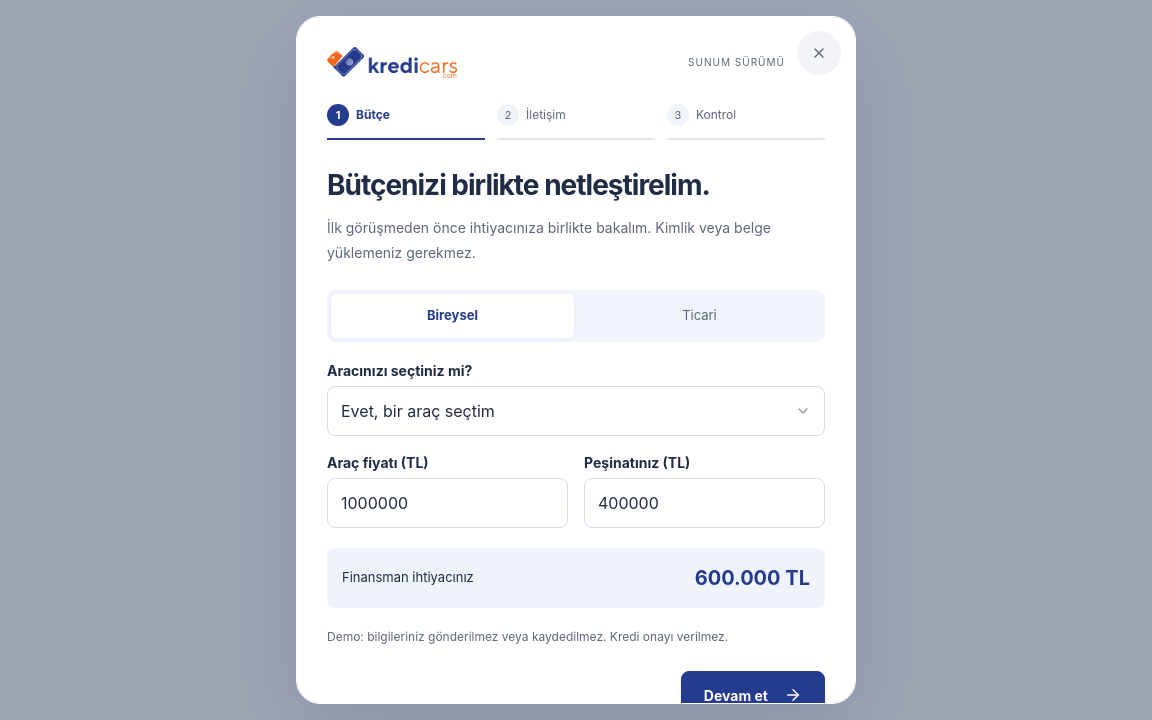
Test case: custom select supports the no-car path without requiring vehicle fields
The width and height of the screenshot is (1152, 720).
Click the dropdown named "Aracınızı seçtiniz mi?" at (418, 411), box [327, 386, 825, 436]
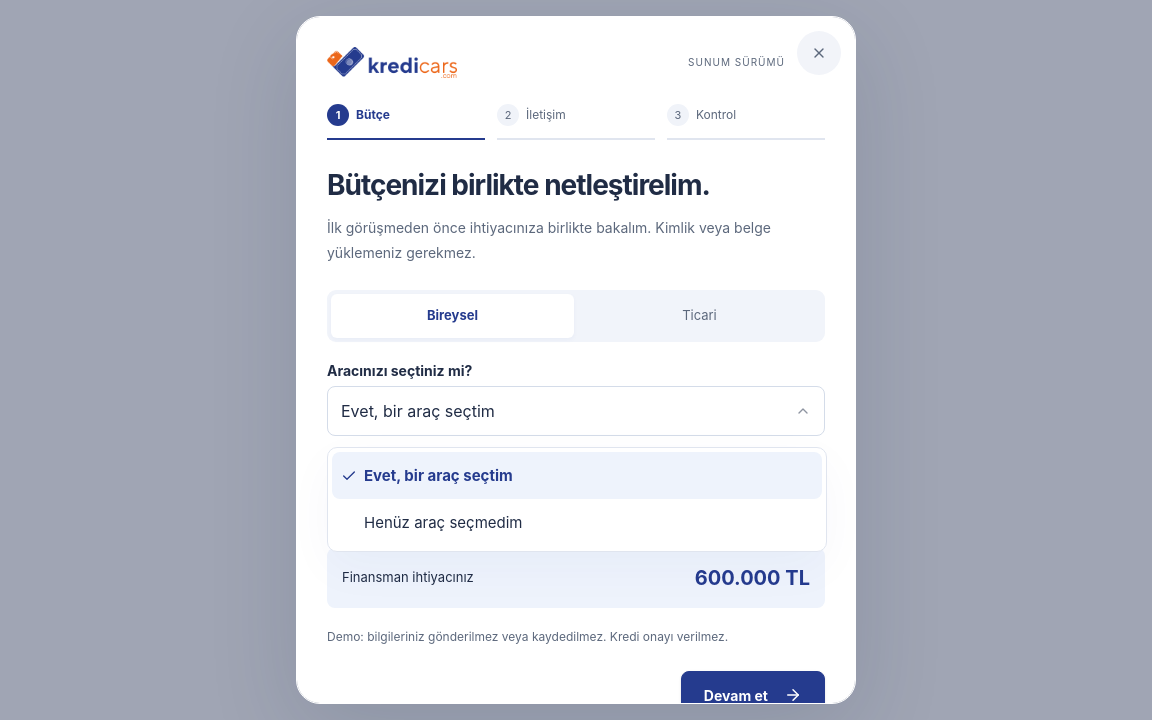
Click the option "Henüz araç seçmedim" at (443, 523), box [364, 513, 522, 532]
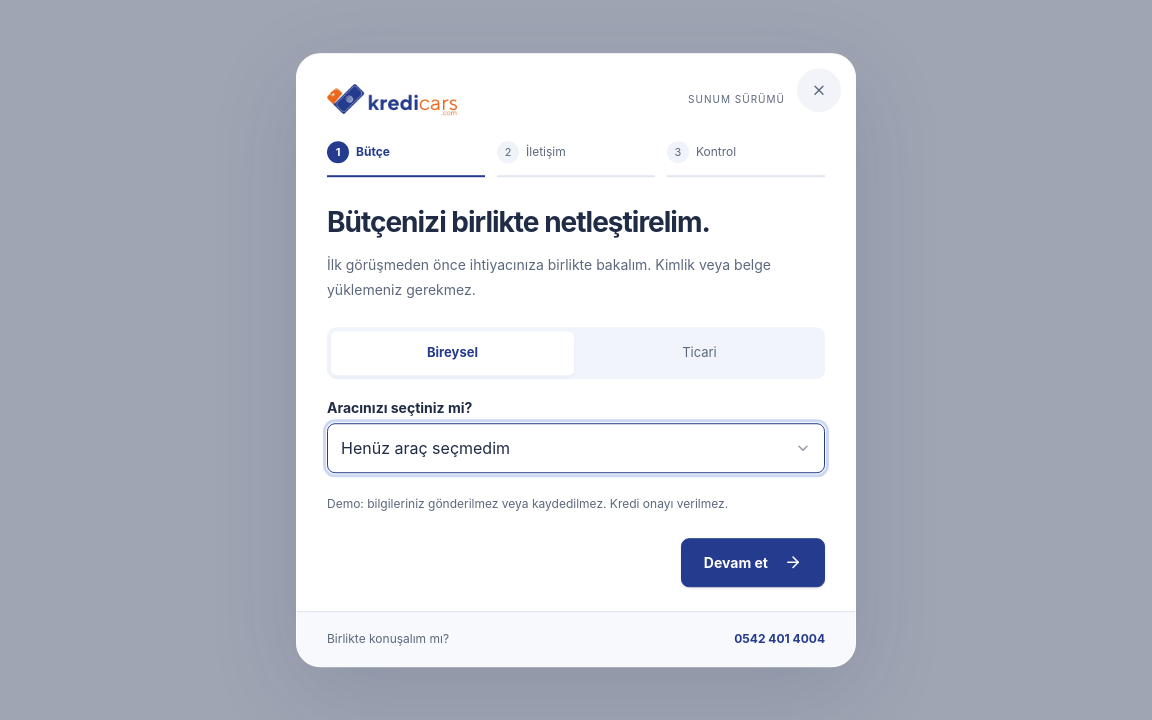
Expected: the label labelled "Araç fiyatı (TL)" is gone
Click the button "Devam et" at (753, 562), box [681, 538, 825, 587]
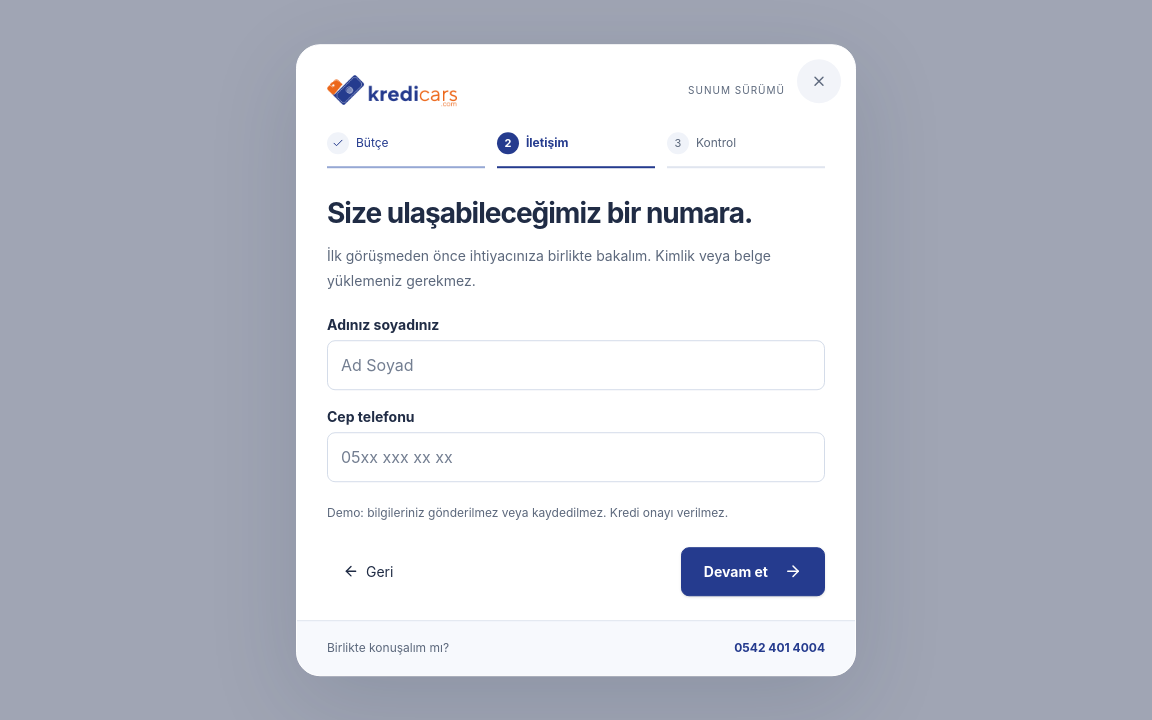
Expected: the field labelled "Adınız soyadınız" is shown, [327, 340, 825, 390]
